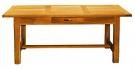obstacle: (2, 5, 131, 63)
